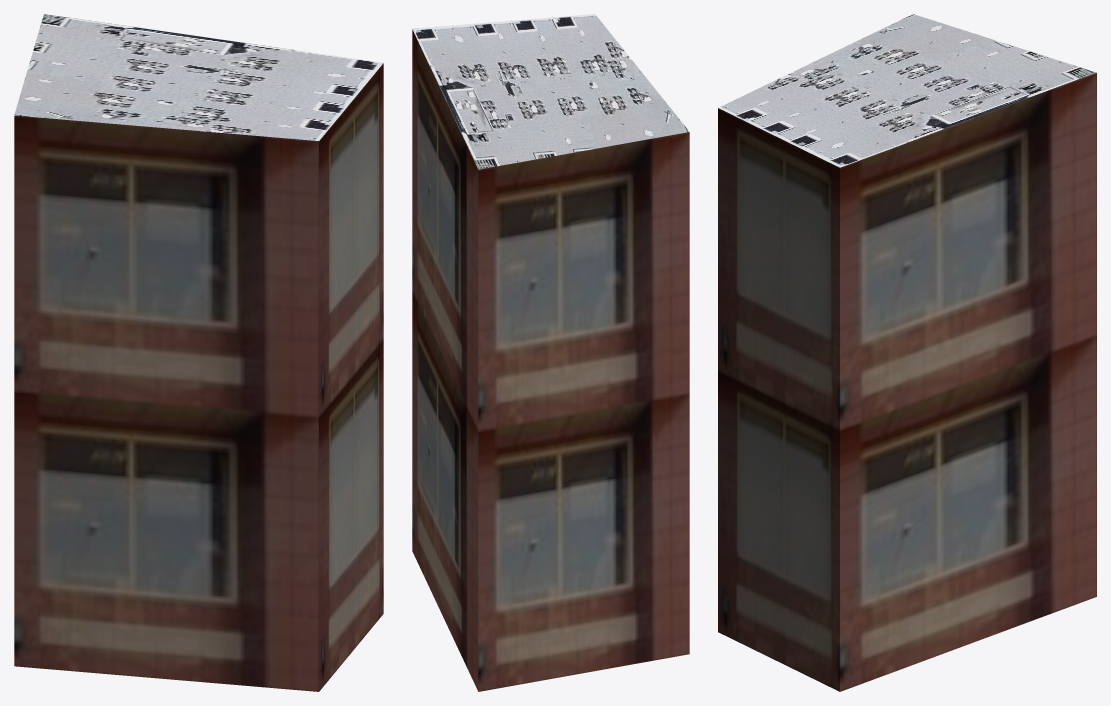
File: ResTex__5052.fbx
The picture shows the model from 3 angles, left to right: view 1: azimuth 30°, elevation 25°; view 2: azimuth 150°, elevation 25°; view 3: azimuth 270°, elevation 25°; orthographic projection. The views are drawn at different scales.
Visible parts, largest first — view 1: CityEngineMaterial_13_m, CityEngineMaterial_4_m; view 2: CityEngineMaterial_13_m, CityEngineMaterial_4_m; view 3: CityEngineMaterial_13_m, CityEngineMaterial_4_m.
Part boxes in pixels (bbox=[...]): CityEngineMaterial_13_m: bbox=[14, 63, 383, 691]; CityEngineMaterial_4_m: bbox=[14, 14, 383, 140]; CityEngineMaterial_13_m: bbox=[412, 29, 689, 691]; CityEngineMaterial_4_m: bbox=[412, 14, 689, 169]; CityEngineMaterial_13_m: bbox=[718, 73, 1096, 691]; CityEngineMaterial_4_m: bbox=[718, 14, 1096, 167].
Size of the model in its own units: 3.78 by 6 by 3.93.
2 materials, 2 textured.
